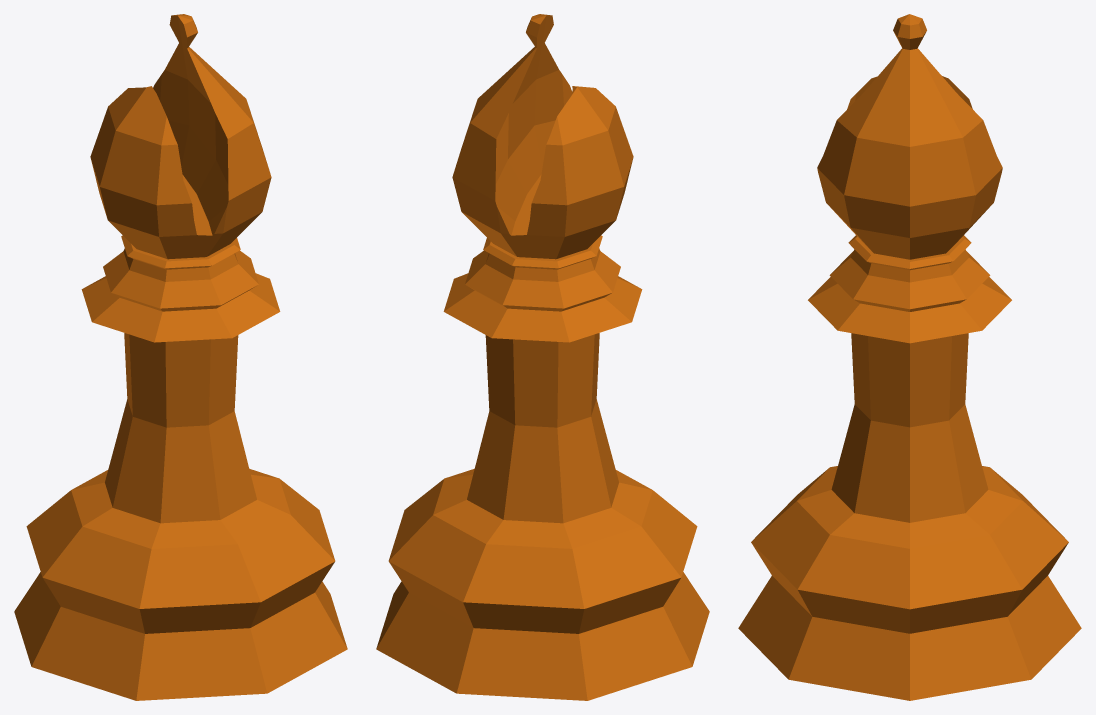
Rendered from ChessBishop.obj.
3 renders of one model, left to right at view 1: azimuth 30°, elevation 25°; view 2: azimuth 150°, elevation 25°; view 3: azimuth 270°, elevation 25°, orthographic.
Parts seen in each view (by area): view 1: White_Bishop_1_Cylinder.000; view 2: White_Bishop_1_Cylinder.000; view 3: White_Bishop_1_Cylinder.000.
Boxes of the visible parts, x1,y1,x2,y2 form: White_Bishop_1_Cylinder.000: [14, 14, 347, 700]; White_Bishop_1_Cylinder.000: [376, 14, 709, 700]; White_Bishop_1_Cylinder.000: [738, 14, 1081, 700].
Bounding box in the file's own units: 4 × 7.87 × 4.
